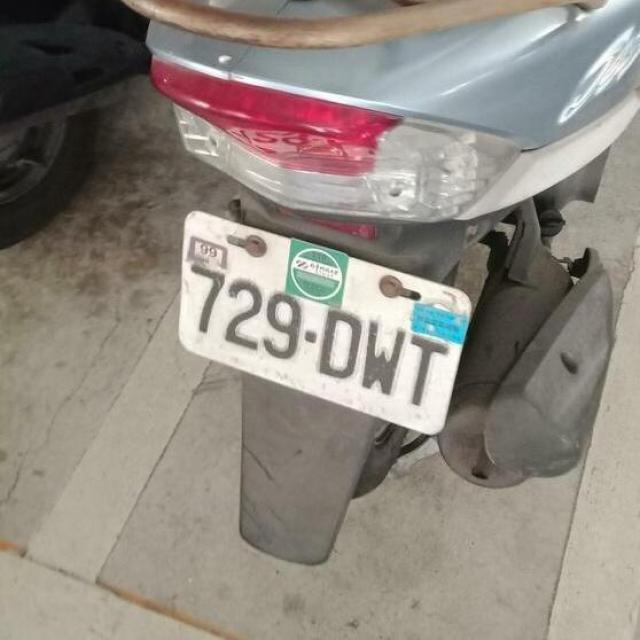W: (154, 199, 485, 442)
